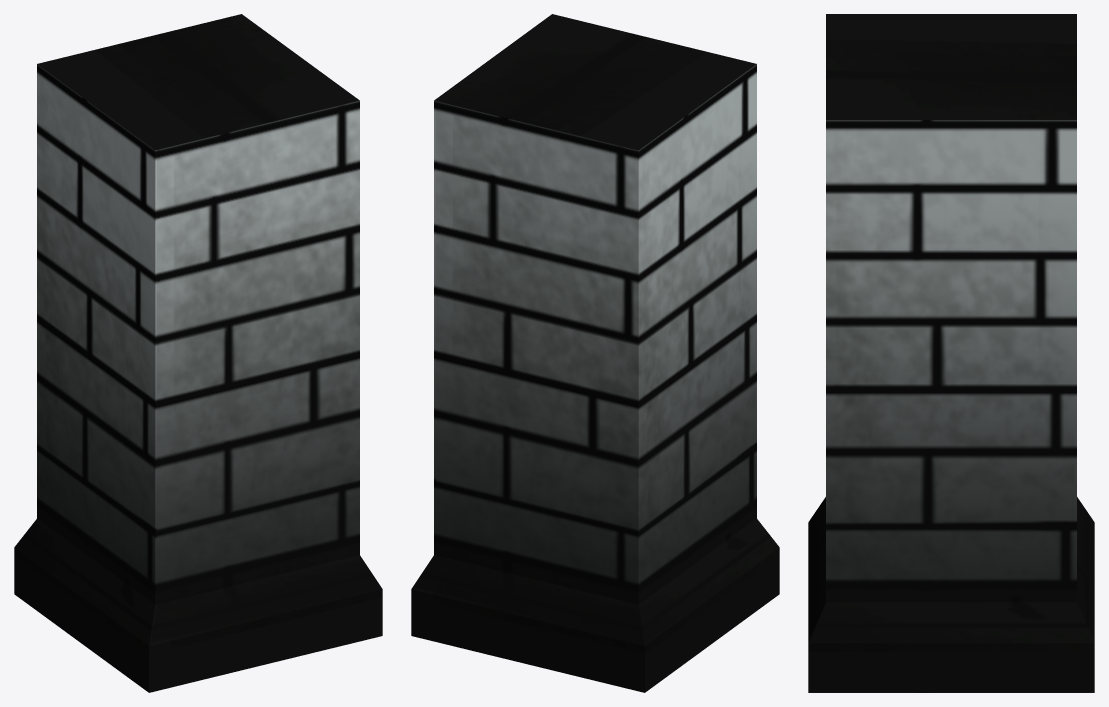
The model's file is pillar.fbx.
The picture shows the model from 3 angles, left to right: view 1: azimuth 30°, elevation 25°; view 2: azimuth 150°, elevation 25°; view 3: azimuth 270°, elevation 25°; orthographic projection. The views are drawn at different scales.
Visible parts, largest first — view 1: pillar; view 2: pillar; view 3: pillar.
Part boxes in pixels (x1,y1,x2,y2): pillar: (14, 14, 382, 692); pillar: (411, 14, 779, 692); pillar: (808, 14, 1094, 692).
Size of the model in its own units: 0.9649 by 2.1 by 0.9649.
1 material, 1 textured.
